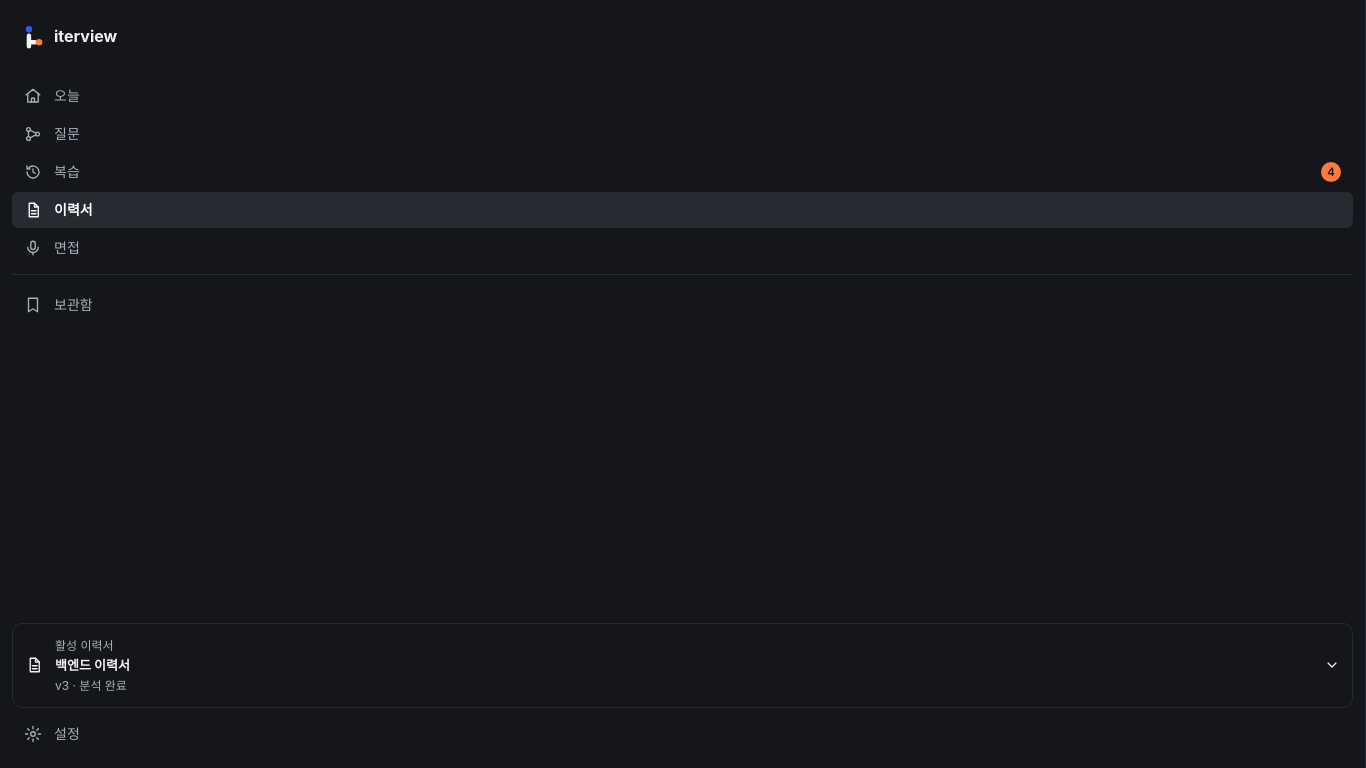
SidebarNavigation › switches the active version from a dialog and follows it on version-scoped pages
Click the button "활성 이력서 백엔드 이력서 v3 · 분석 완료" at [84, 645], box x1=12 y1=623 x2=1353 y2=708
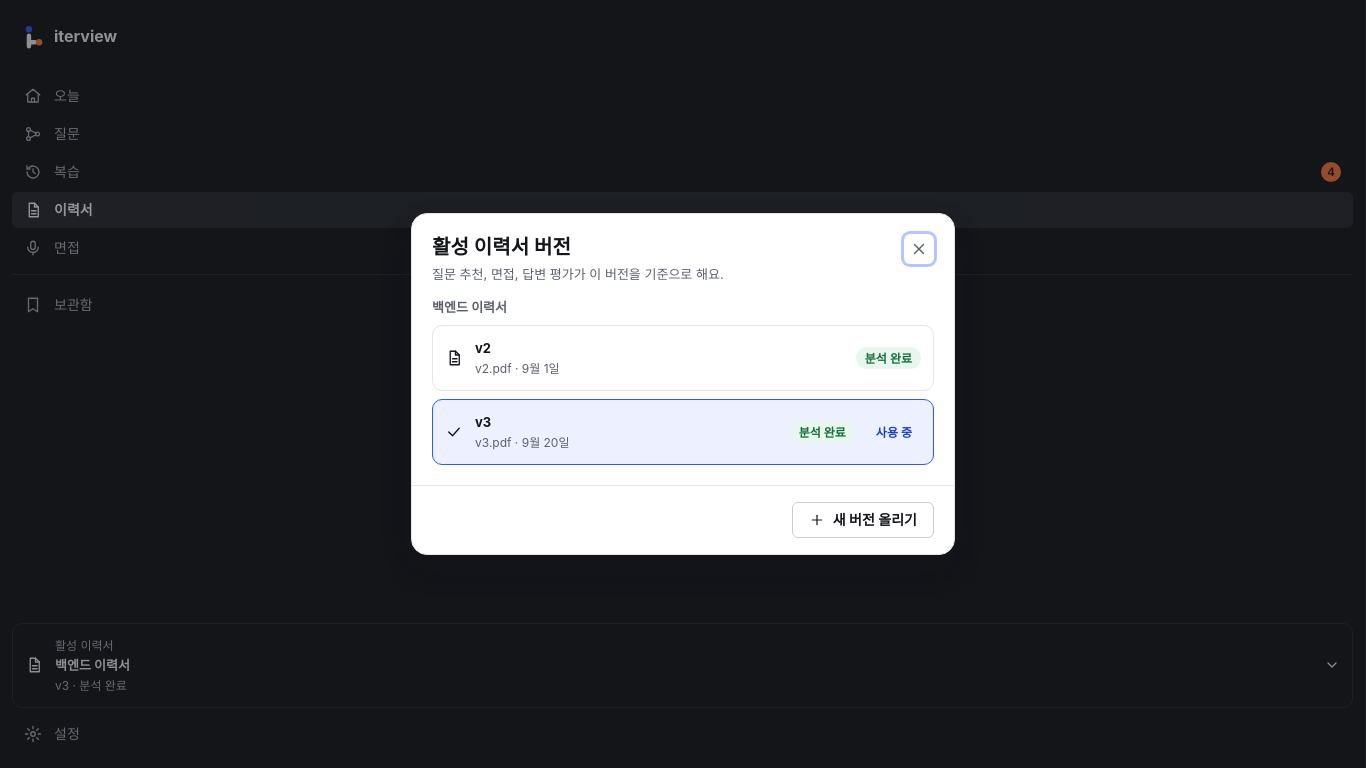
Click the button "v2 v2.pdf · 9월 1일 분석 완료" at [517, 369], box x1=432 y1=325 x2=934 y2=391
(page scrolled)
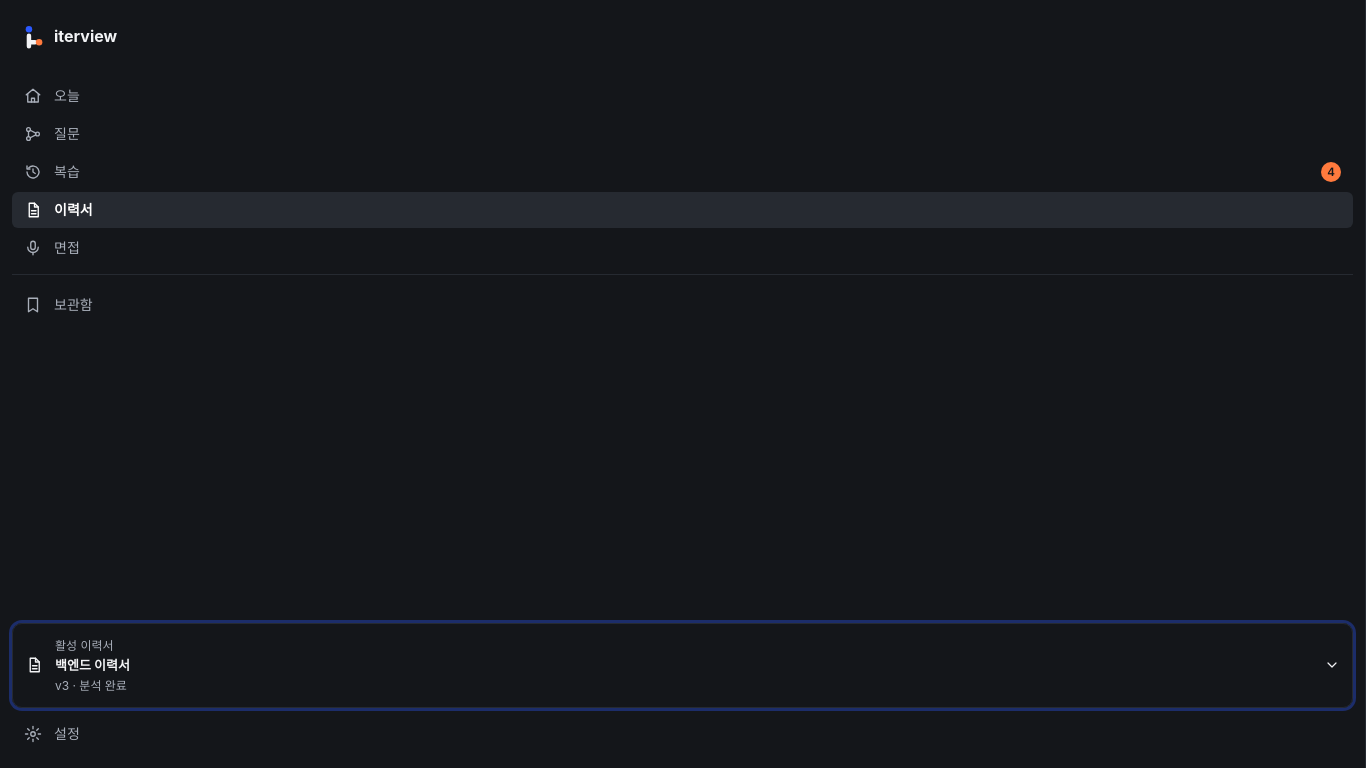
expect the dialog is gone: met
